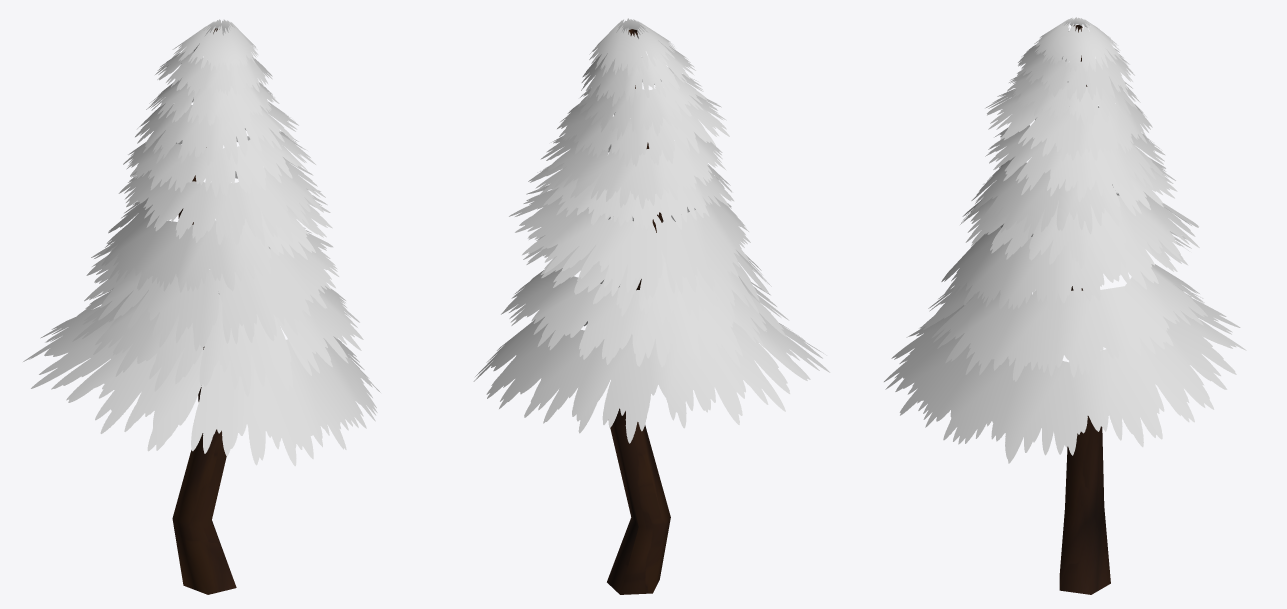
File: Pine_tree_small.fbx
The picture shows the model from 3 angles, left to right: view 1: azimuth 30°, elevation 25°; view 2: azimuth 150°, elevation 25°; view 3: azimuth 270°, elevation 25°; orthographic projection.
Parts seen in each view (by area): view 1: Pine_tree_small; view 2: Pine_tree_small; view 3: Pine_tree_small.
Part boxes in pixels (x1,y1,x2,y2): Pine_tree_small: (23,19,380,594); Pine_tree_small: (473,18,830,594); Pine_tree_small: (884,17,1246,594).
Size of the model in its own units: 306 by 476 by 301.
